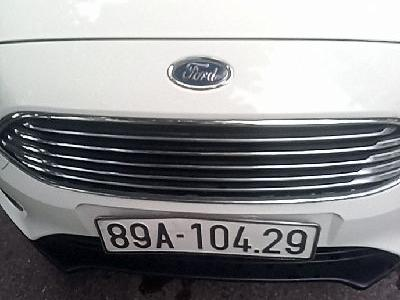number: (94, 215, 320, 266)
